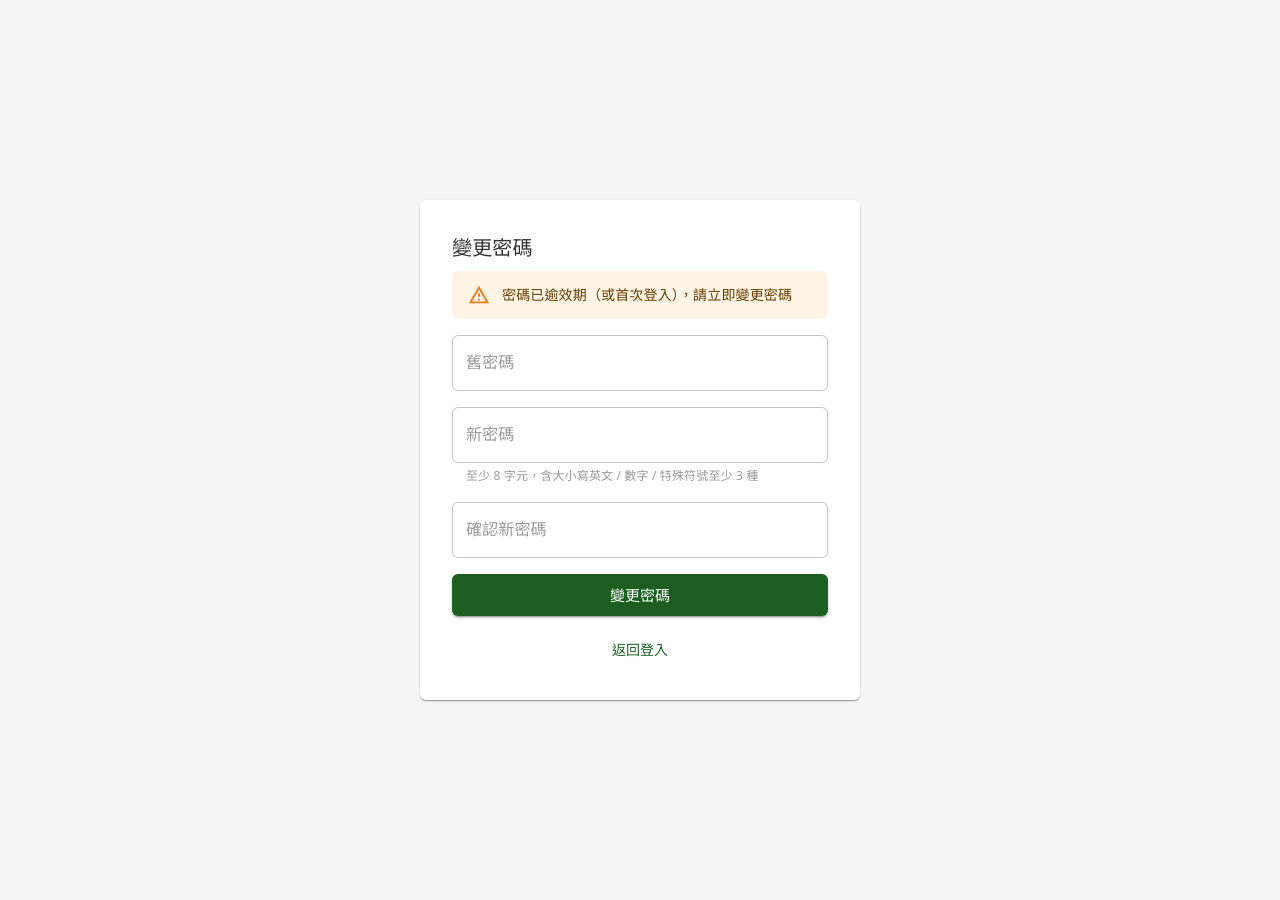
ForceChangePasswordShell 強制變更密碼（US8 填實提交） › 舊密碼錯（422 DP_PWD_006，非 401）→ 顯示錯誤訊息、不觸發自動登出
Step 1. Type "WrongOld9" into the password field labelled "舊密碼" → (640, 363), box [452, 335, 828, 391]
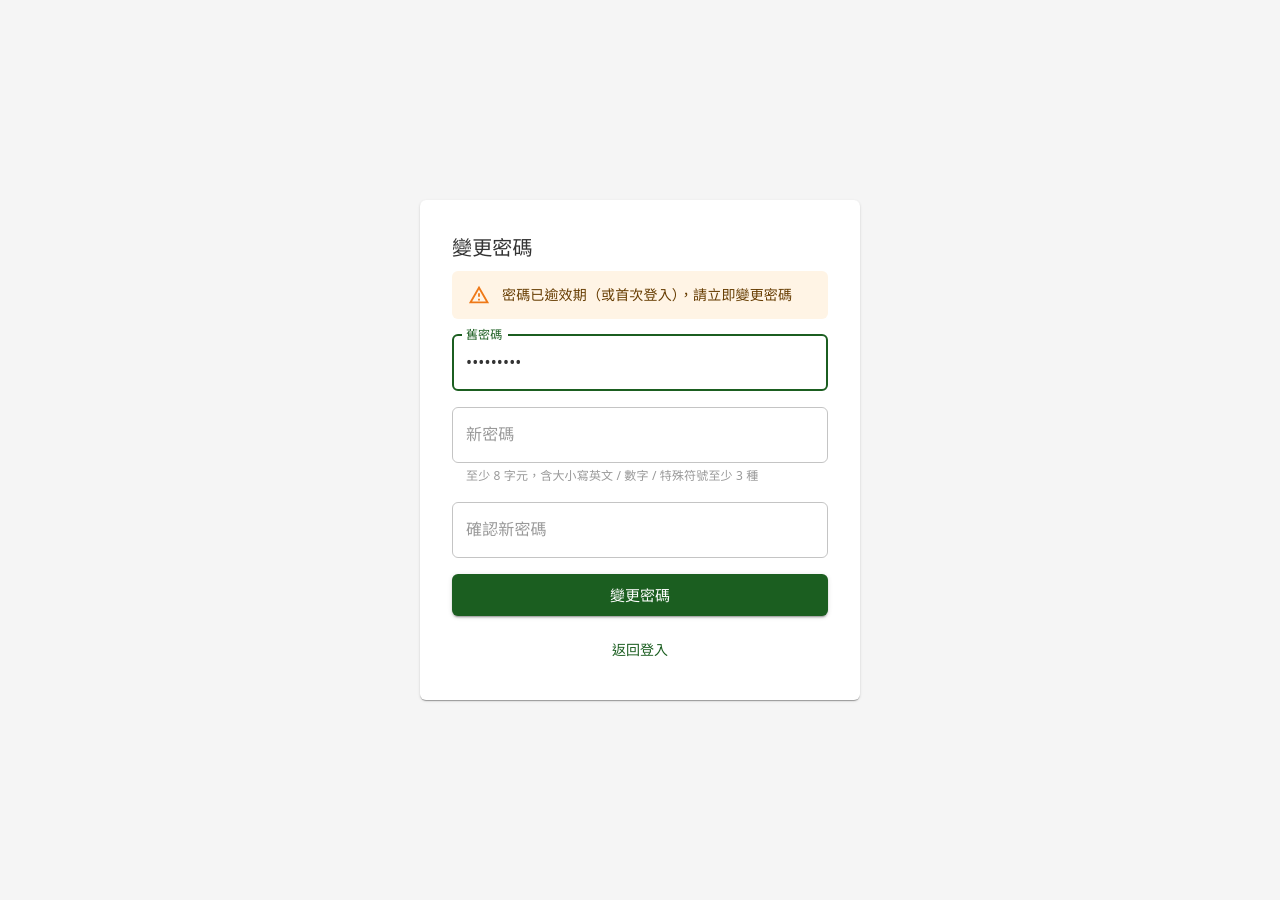
Step 2. Type "Xyz98765!" into the password field labelled "新密碼" → (640, 435), box [452, 407, 828, 463]
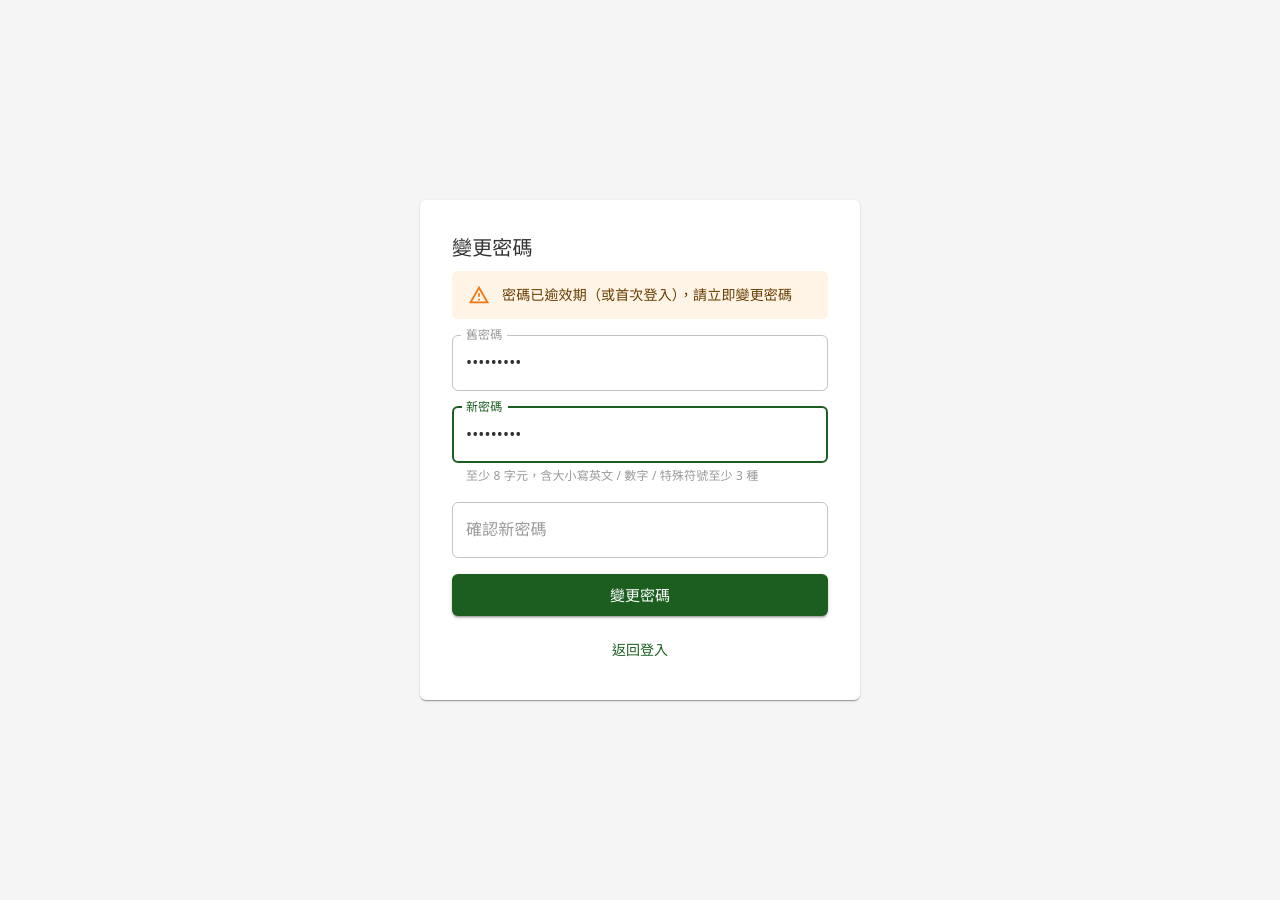
Step 3. Type "Xyz98765!" into the password field labelled "確認新密碼" → (640, 530), box [452, 502, 828, 558]
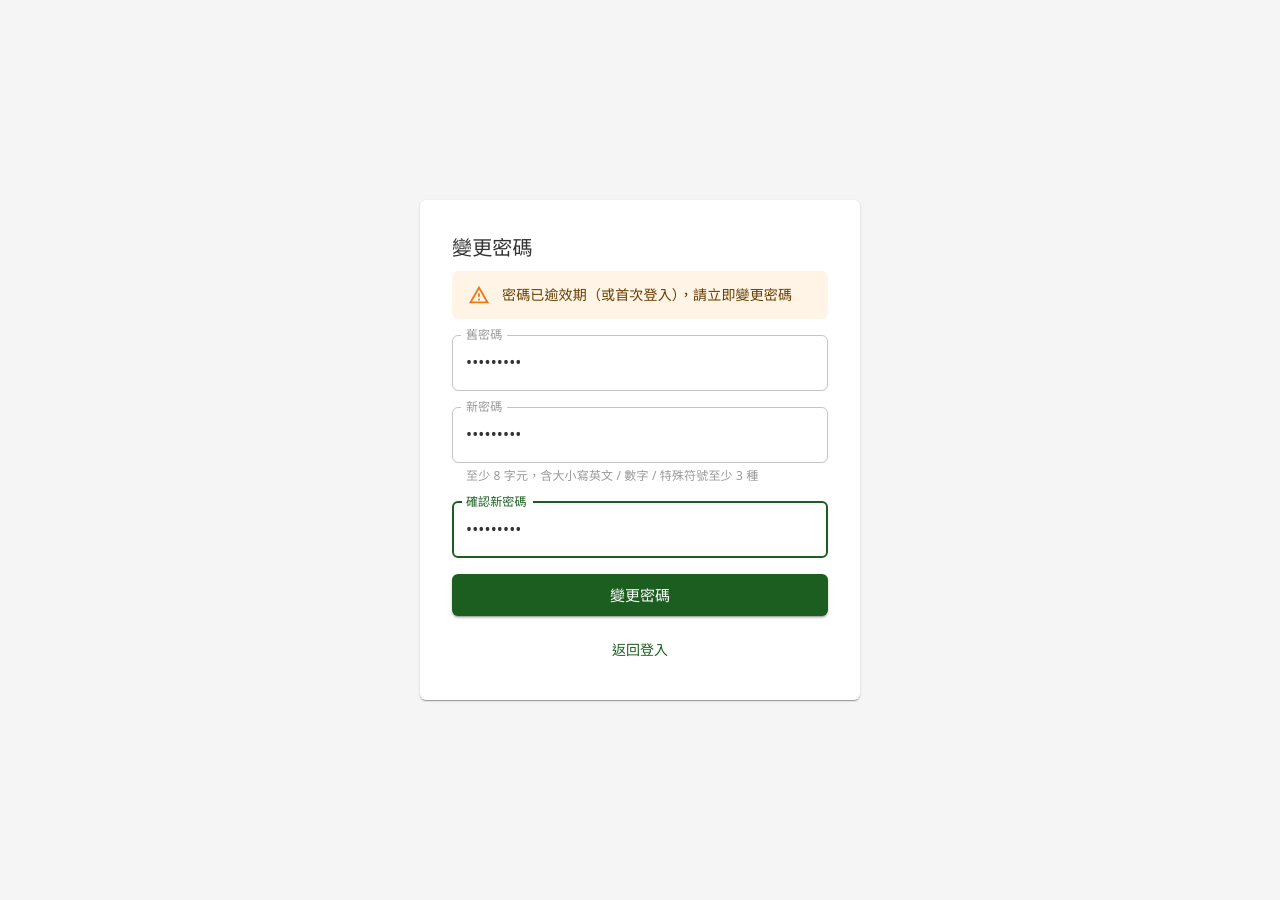
Step 4. Click the button "變更密碼" → (640, 595), box [452, 574, 828, 616]
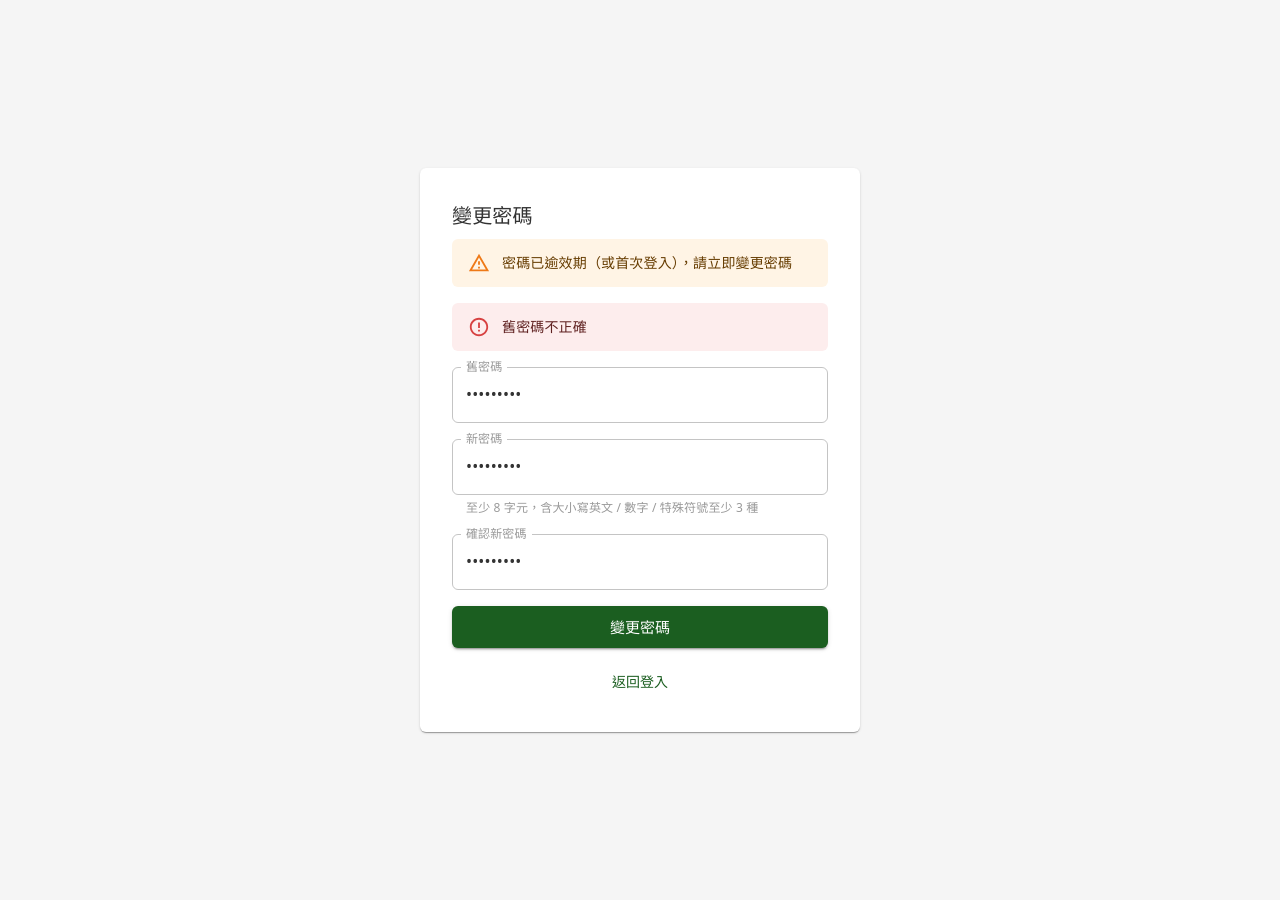
Now the text "舊密碼不正確" is shown, box [502, 317, 587, 336]
